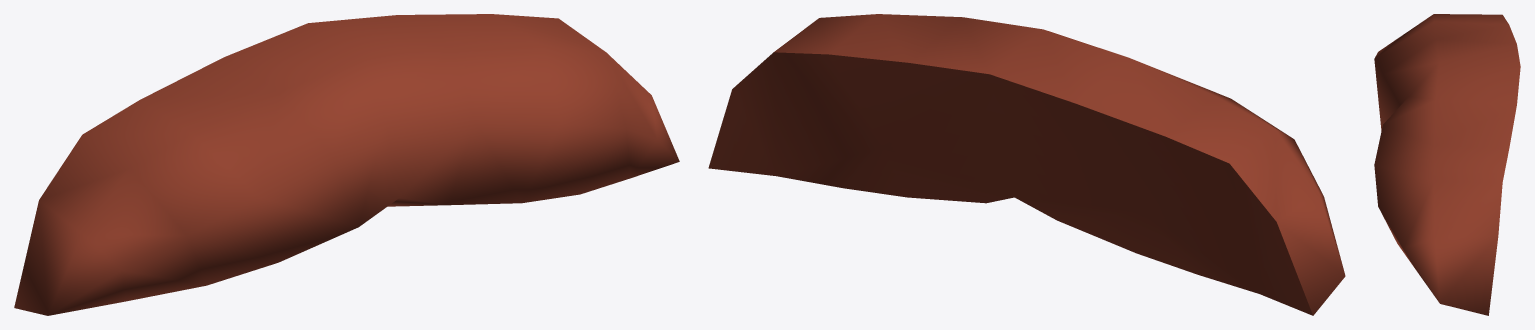
Rendered from Beard_Brown_4.fbx.
The picture shows the model from 3 angles, left to right: view 1: azimuth 30°, elevation 25°; view 2: azimuth 150°, elevation 25°; view 3: azimuth 270°, elevation 25°; orthographic projection. The views are drawn at different scales.
Parts seen in each view (by area): view 1: Beard_Brown_4; view 2: Beard_Brown_4; view 3: Beard_Brown_4.
Boxes of the visible parts, x1,y1,x2,y2 form: Beard_Brown_4: [14, 14, 679, 315]; Beard_Brown_4: [708, 14, 1345, 315]; Beard_Brown_4: [1374, 14, 1520, 315].
Bounding box in the file's own units: 26.47 × 7.9 × 7.36.
